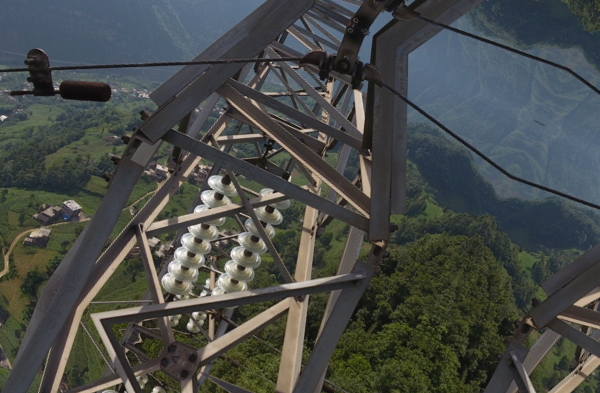damper_defect: (5, 46, 114, 105)
